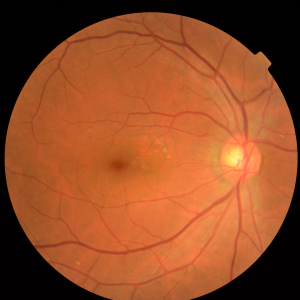retina_disease: (82, 100, 276, 213)
